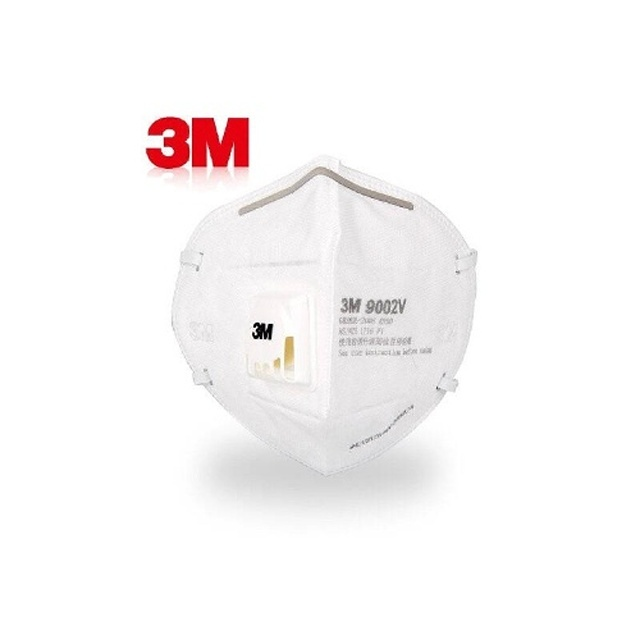mask: (166, 155, 487, 474)
